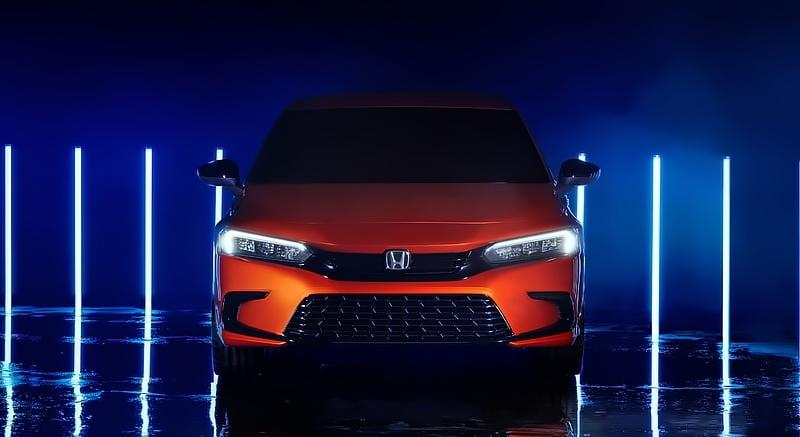Car hood: (228, 178, 579, 258)
Front bumper: (209, 260, 588, 367)
Headlight - -L-: (469, 223, 583, 272)
Headlight - -R-: (209, 220, 321, 275)
Side mirror - -L-: (543, 155, 604, 203)
Side mirror - -R-: (193, 149, 246, 196)
